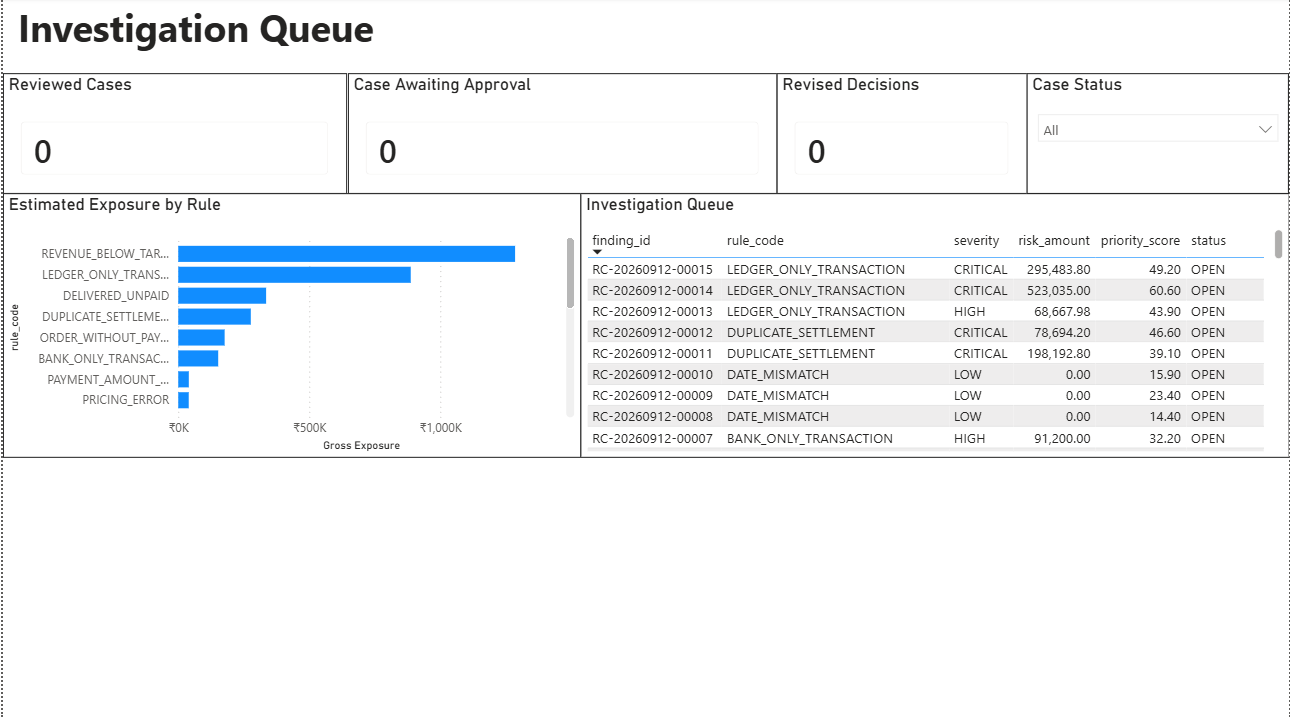

This screenshot's page, from the dashboard's own definition file:
{"tool":"powerbi","page":{"name":"Investigation Queue","canvas":[1280,720],"ordinal":4},"visuals":[{"type":"textbox","box":[10,0,1270.4,75.3],"z":0},{"type":"cardVisual","title":"Reviewed Cases","fields":{"Data":["rpt_fact_findings.Reviewed Cases"]},"box":[0,75.3,342.8,119.7],"z":1000},{"type":"cardVisual","title":"Case Awaiting Approval","fields":{"Data":["rpt_fact_findings.Cases Awaiting Approval"]},"box":[342.8,75.3,427.1,119.7],"z":5002},{"type":"cardVisual","title":"Revised Decisions","fields":{"Data":["rpt_fact_reviews.Revised Decisions"]},"box":[769.9,75.3,249.4,119.7],"z":5003},{"type":"clusteredBarChart","title":"Estimated Exposure by Rule","fields":{"Category":["rpt_dim_rule.rule_code"],"Y":["rpt_fact_findings.Gross Exposure"]},"box":[0,195,574.9,263],"z":5004},{"type":"tableEx","title":"Investigation Queue","fields":{"Values":["rpt_fact_findings.finding_id","rpt_fact_findings.rule_code","rpt_fact_findings.severity","rpt_fact_findings.risk_amount","rpt_fact_findings.priority_score","rpt_fact_findings.status"]},"box":[574.9,195,705.5,263],"z":5005},{"type":"slicer","title":"Case Status","fields":{"Values":["rpt_dim_status.status"]},"box":[1019.2,75.3,261.2,119.7],"z":5006}]}

Visuals, with their boxes in screenshot pixels (x1, y1, x2, y2), scaled from the page's 1280x720 canvas onto the 1290x717 screenshot:
textbox: detection(10, 0, 1289, 75)
"Reviewed Cases" cardVisual: detection(0, 75, 345, 194)
"Case Awaiting Approval" cardVisual: detection(345, 75, 776, 194)
"Revised Decisions" cardVisual: detection(776, 75, 1027, 194)
"Estimated Exposure by Rule" clusteredBarChart: detection(0, 194, 579, 456)
"Investigation Queue" tableEx: detection(579, 194, 1289, 456)
"Case Status" slicer: detection(1027, 75, 1289, 194)
